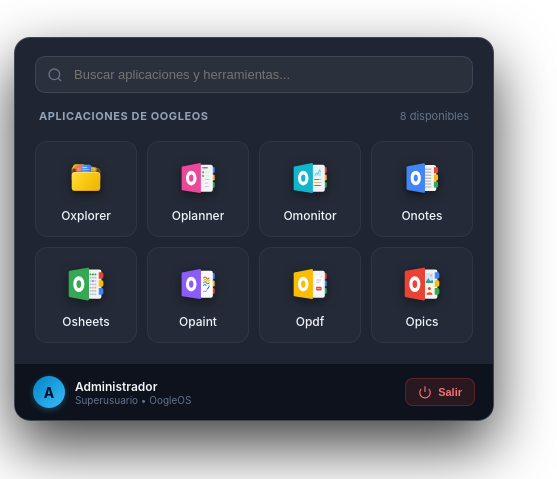
Test case: StartMenu.vue - Menú de Inicio estilo Windows › filtra las aplicaciones al escribir en el buscador
The width and height of the screenshot is (557, 479).
Step 1. Type "paint" into the field with class "search-input" → coordinates (254, 74), box 35,56 -> 473,93
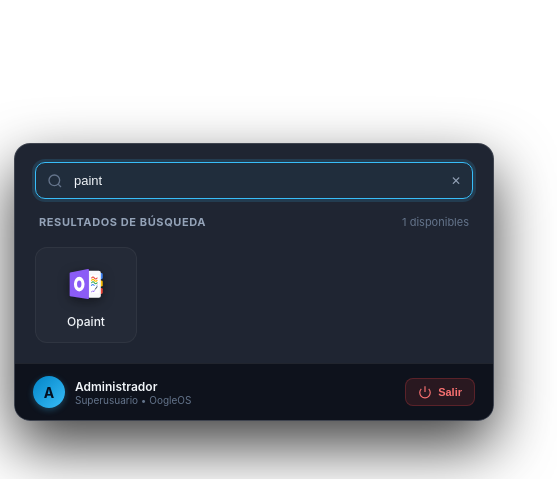
Expected: the text "Opaint" is shown, 67,315 -> 105,329
Result: the number of elements with class "app-card" is 1 at 35,247 -> 137,343
Result: the text "Oxplorer" is gone
Limpiar búsqueda
Step 2. Clear the field with class "search-input" → coordinates (254, 180), box 35,162 -> 473,199
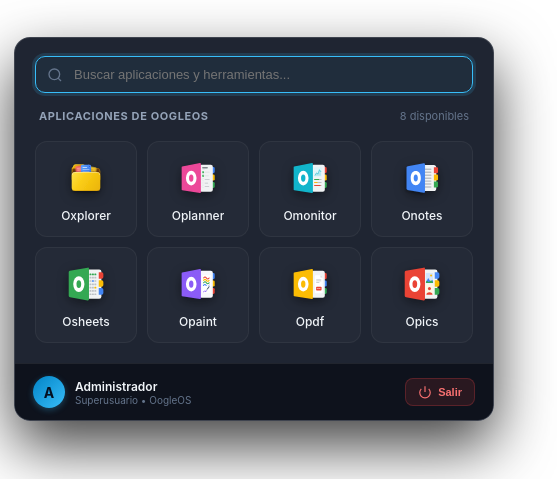
Result: the number of elements with class "app-card" is 8
